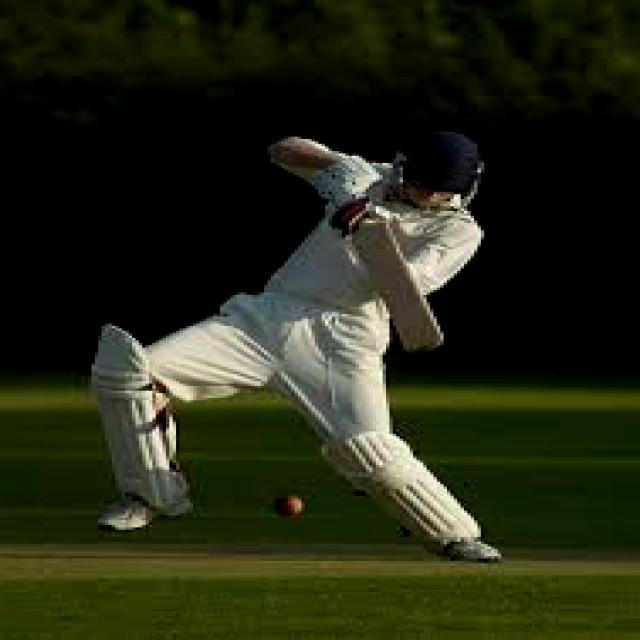bat: (351, 213, 444, 358)
toe: (407, 335, 444, 356)
